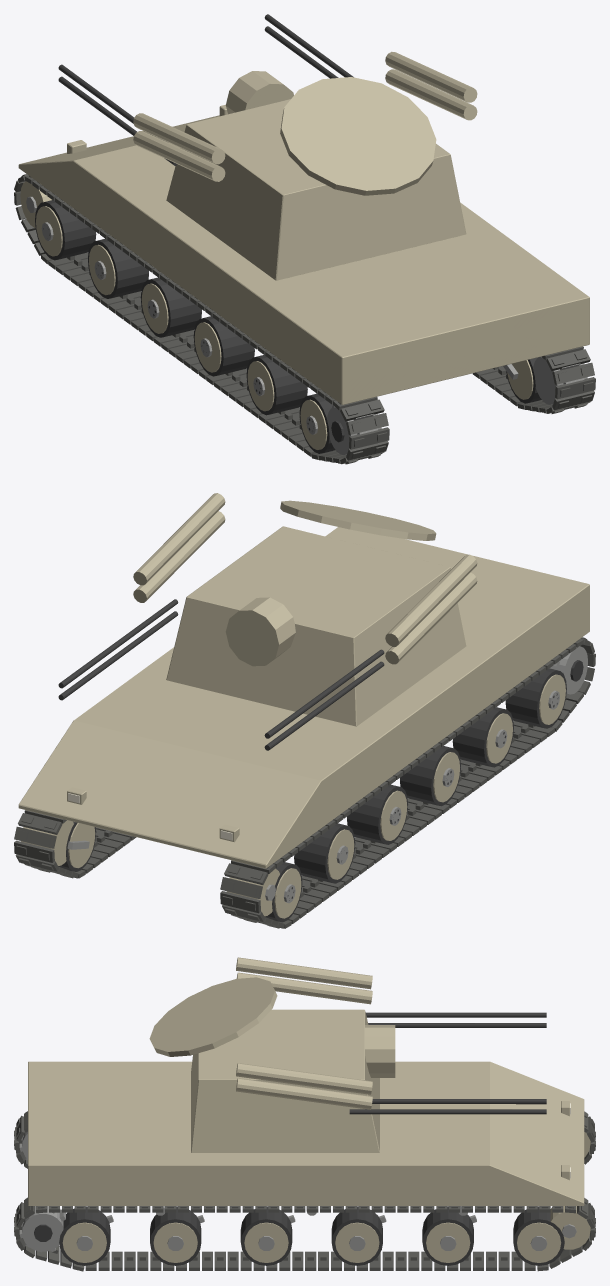
The model's file is rus_aa_tung.glb.
The picture shows the model from 3 angles, top to bottom: view 1: azimuth 30°, elevation 25°; view 2: azimuth 150°, elevation 25°; view 3: azimuth 270°, elevation 25°; orthographic projection. The views are drawn at different scales.
Visible parts, largest first — view 1: body, turret, barrel; view 2: body, turret, barrel; view 3: body, turret, barrel.
Boxes of the visible parts, x1,y1,x2,y2 form: body: [14, 104, 595, 464]; turret: [166, 71, 466, 280]; barrel: [58, 14, 477, 181]; body: [14, 527, 595, 928]; turret: [166, 500, 466, 726]; barrel: [58, 493, 477, 750]; body: [14, 1061, 595, 1271]; turret: [149, 977, 395, 1152]; barrel: [236, 957, 546, 1114].
Size of the model in its own units: 3.48 by 3.36 by 7.69.
